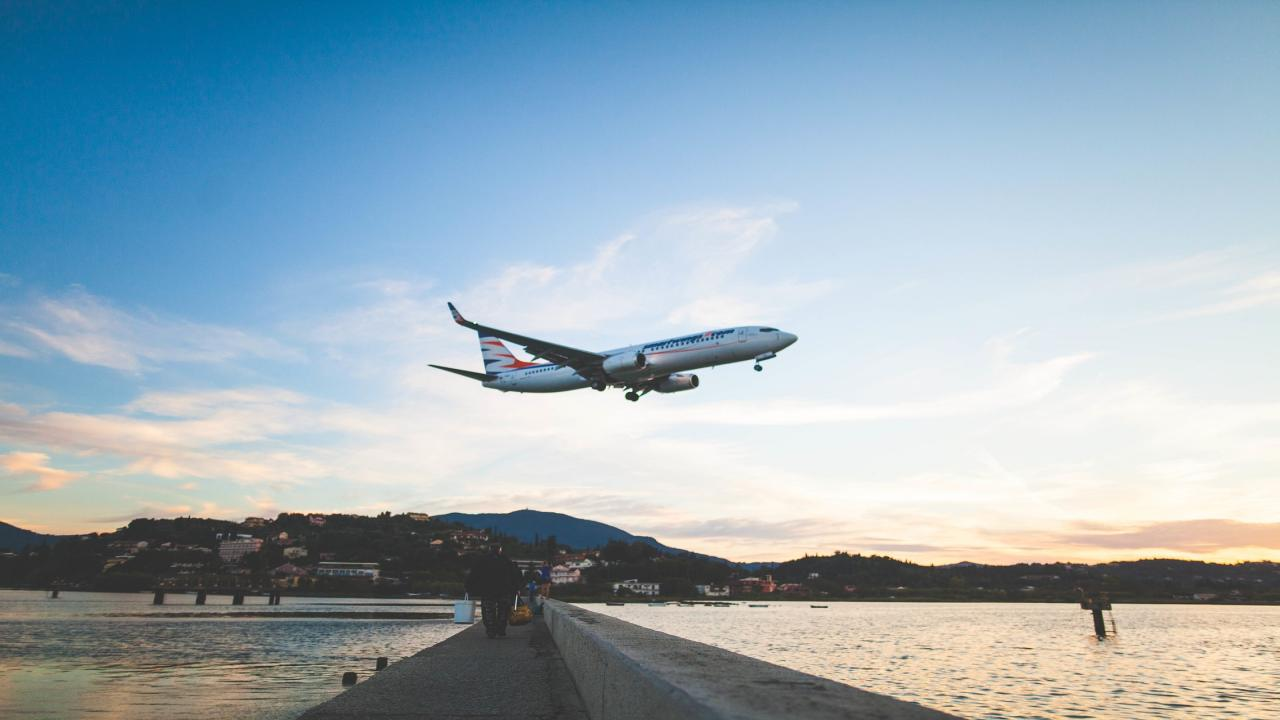Airplane: (416, 291, 812, 413)
